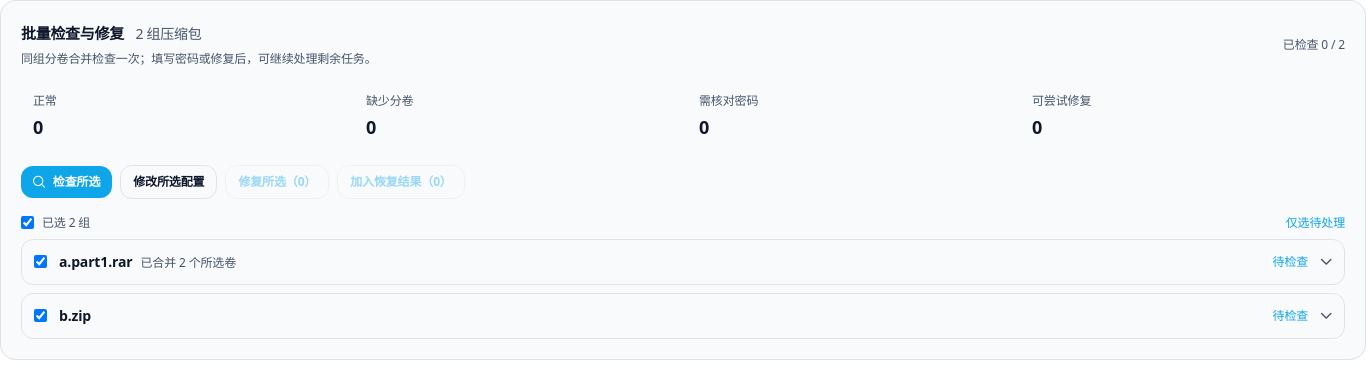
Test: archive batch recovery user flow › stops the active check and leaves later groups untouched
The width and height of the screenshot is (1366, 377).
Click the button with test id "batch-diagnose" at {"x": 67, "y": 182}, box left=21, top=166, right=112, bottom=198
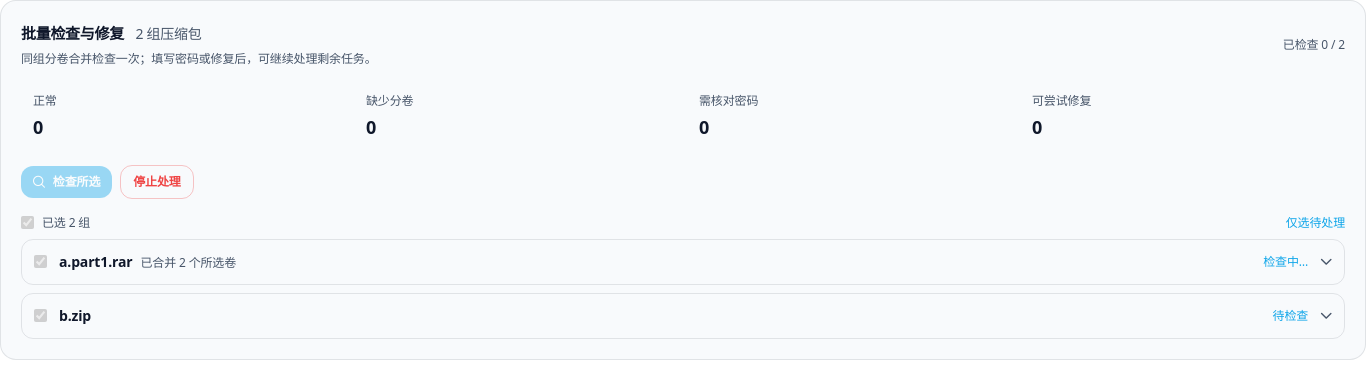
Click the button with test id "batch-stop" at {"x": 157, "y": 182}, box left=120, top=164, right=194, bottom=198
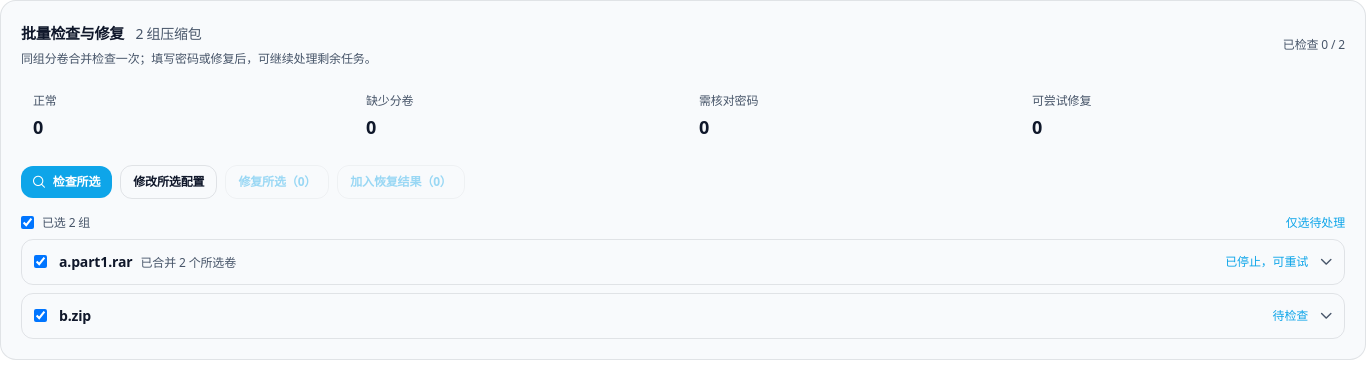
Check: the text with test id "archive-batch-status" reads "待检查", box left=1273, top=306, right=1308, bottom=324
Check: the text "已停止，可重试" is shown, box left=1225, top=254, right=1308, bottom=270
